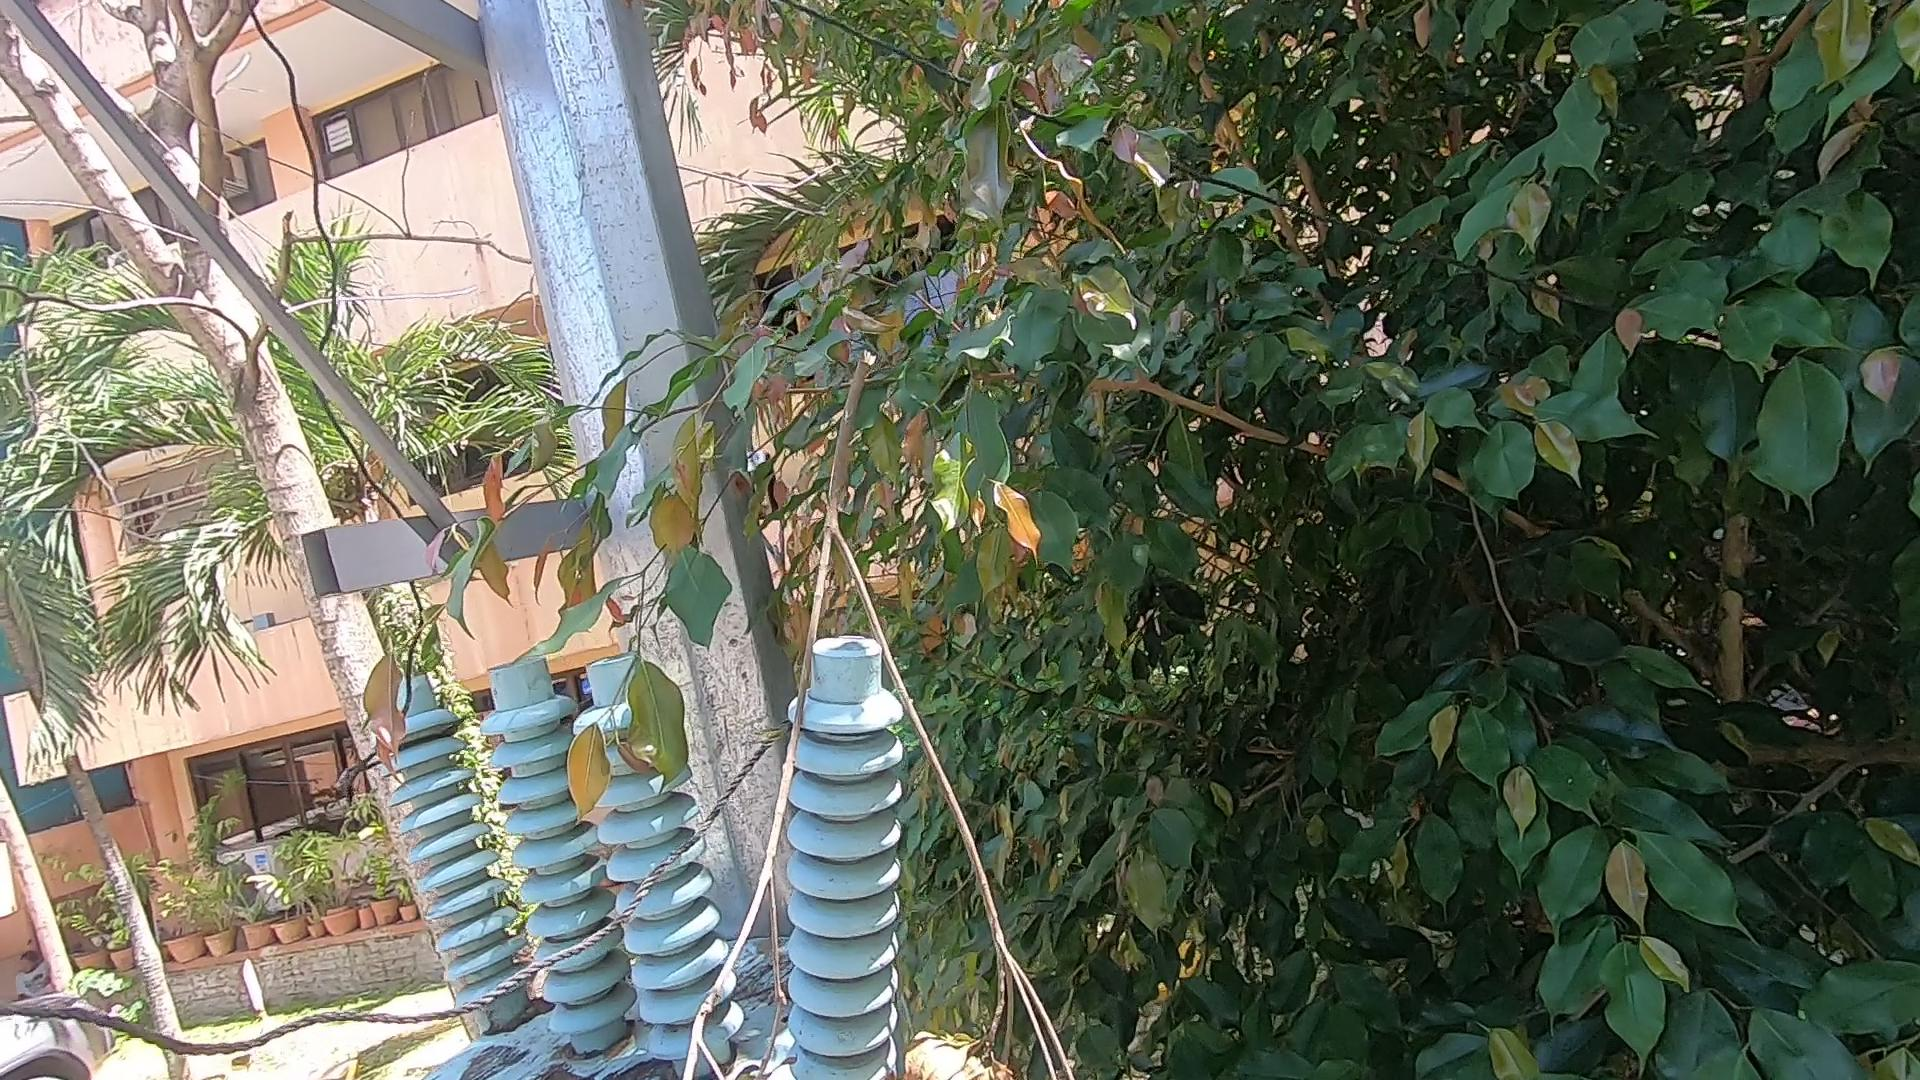tree branch: (642, 351, 1088, 1077)
